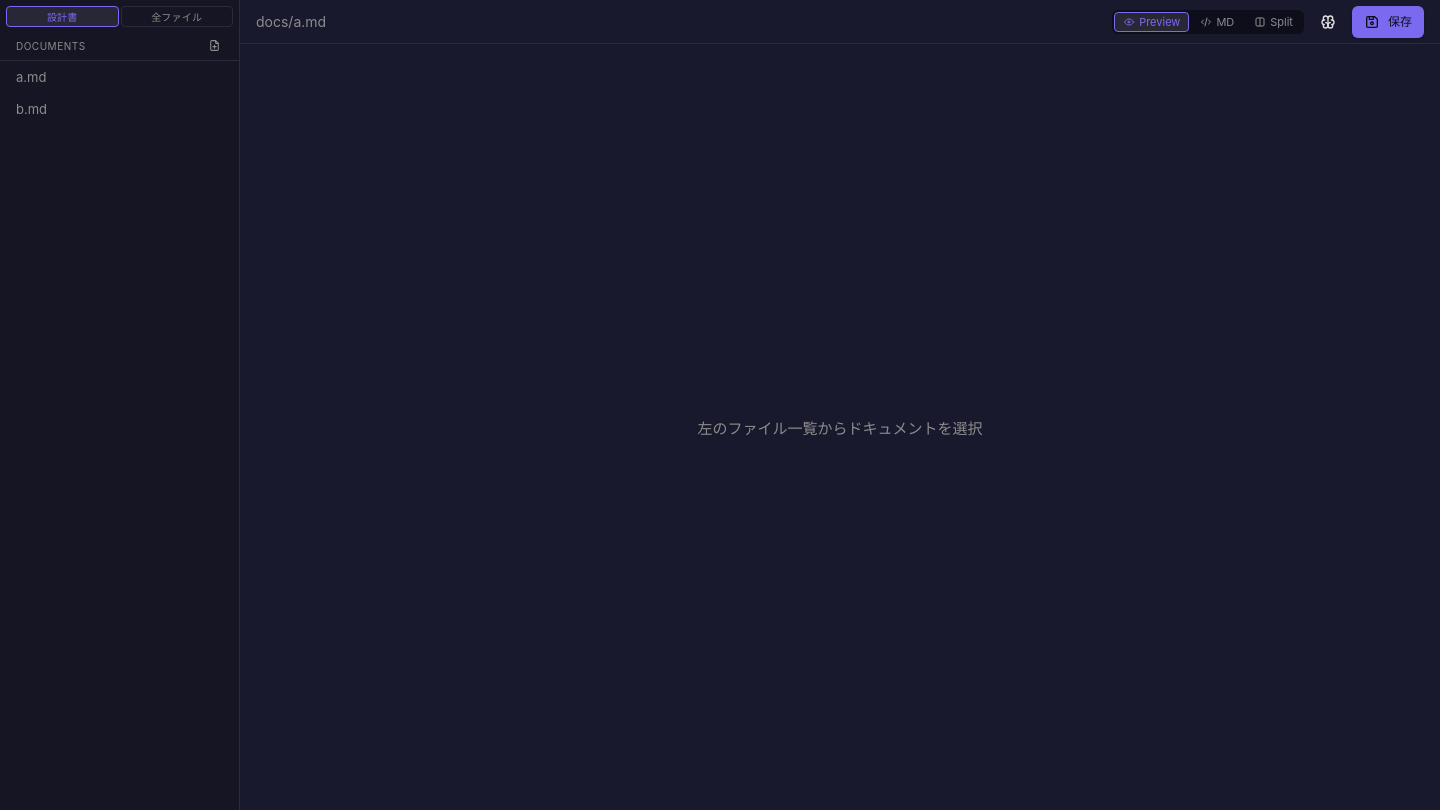
Test: EditorScreen — UnsavedWarningModal wire-up › dirty なドキュメントから切り替えると UnsavedWarningModal が表示される
Click the button "b.md" at (107, 109), box [2,93,212,125]
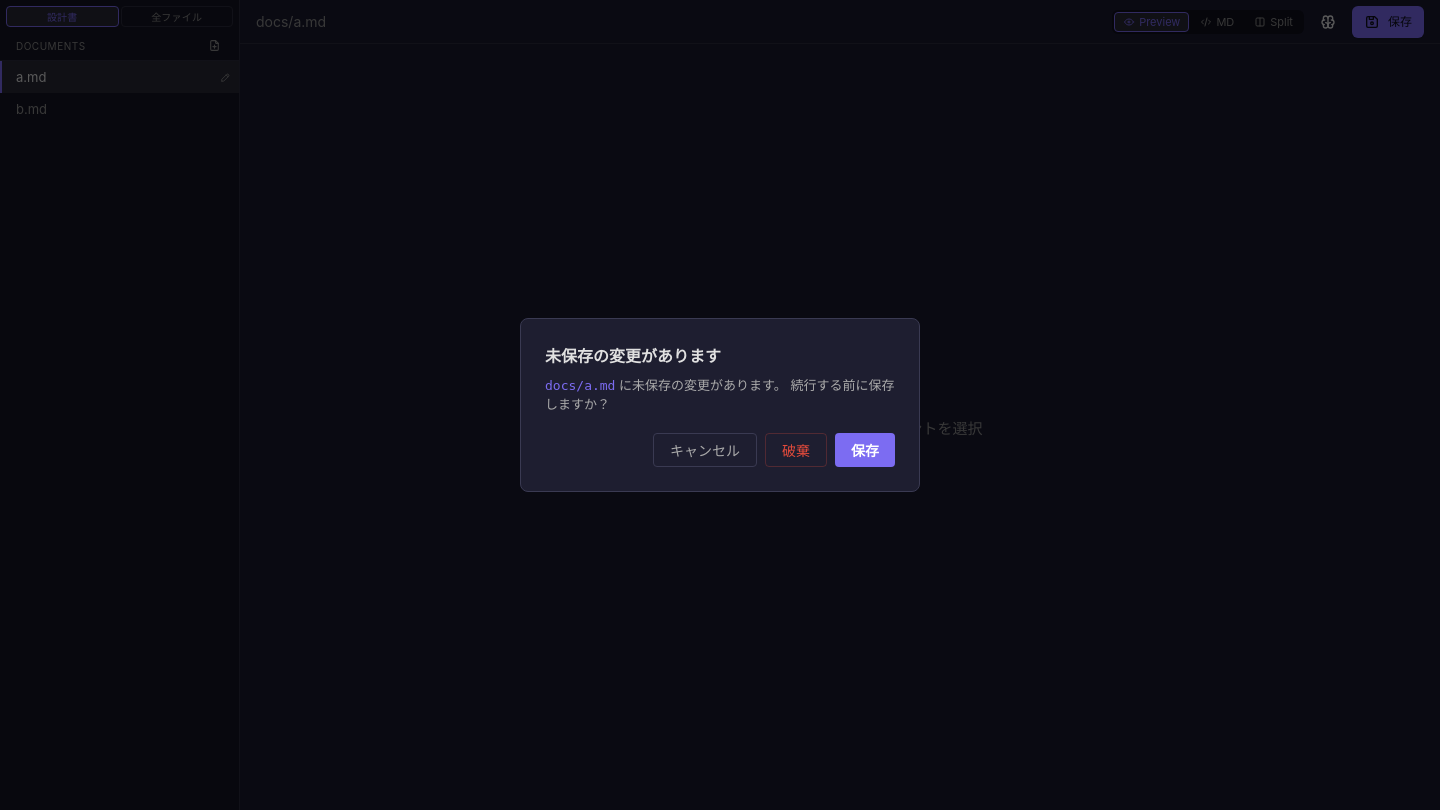
Expected: the dialog is shown, [520,318,920,492]
Expected: the text "docs/a.md" is shown, [545,378,616,393]
